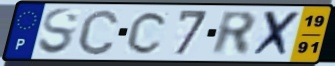7: (175, 8, 211, 57)
C: (75, 7, 121, 57), (125, 10, 171, 56)
R: (210, 9, 258, 57)
S: (36, 7, 81, 57)
X: (248, 9, 303, 60)
